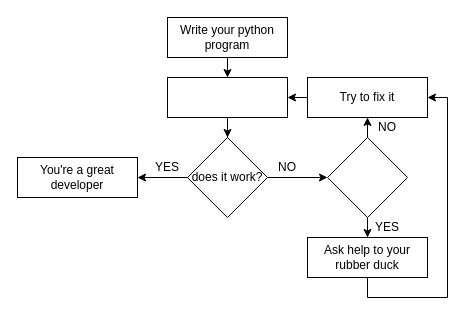
Image size: 473x323. Some labels were removed from this diagram. Each missing label, with the centre of its shape:
"have you tried more than 3 times?" goes at pixel 367 177.
"Try to run it" goes at pixel 227 97.
